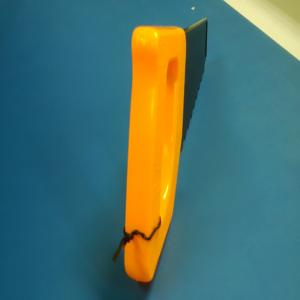serrote: (122, 16, 208, 286)
